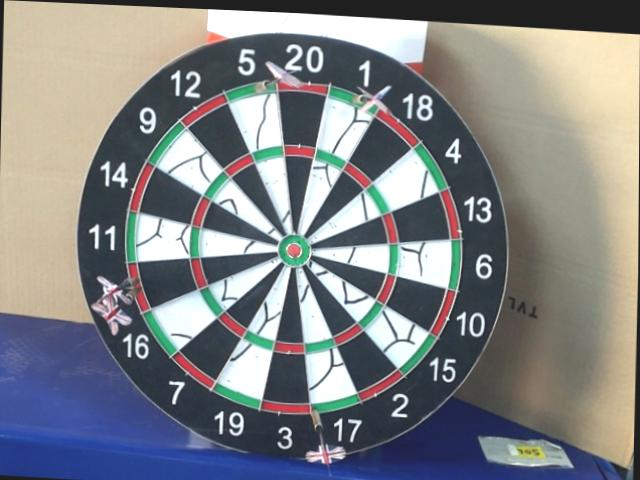double_1: (331, 87, 380, 108)
double_17: (312, 393, 361, 413)
double_5: (231, 80, 274, 97)
double_8: (131, 265, 151, 311)
